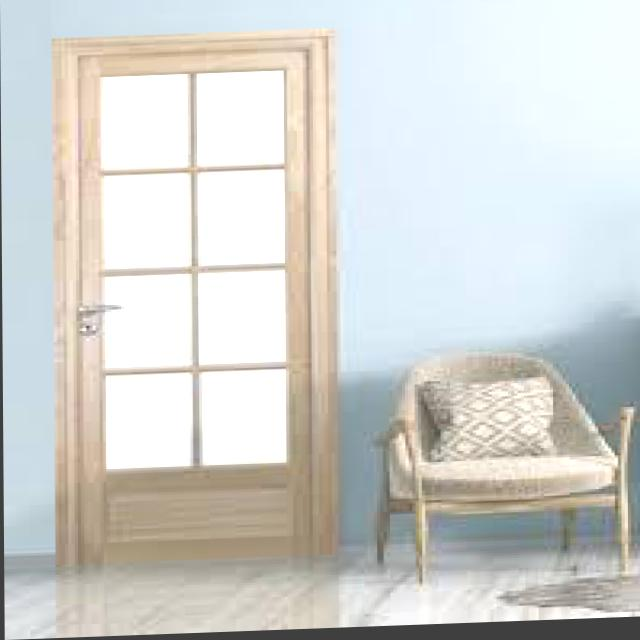close: (26, 20, 357, 604)
